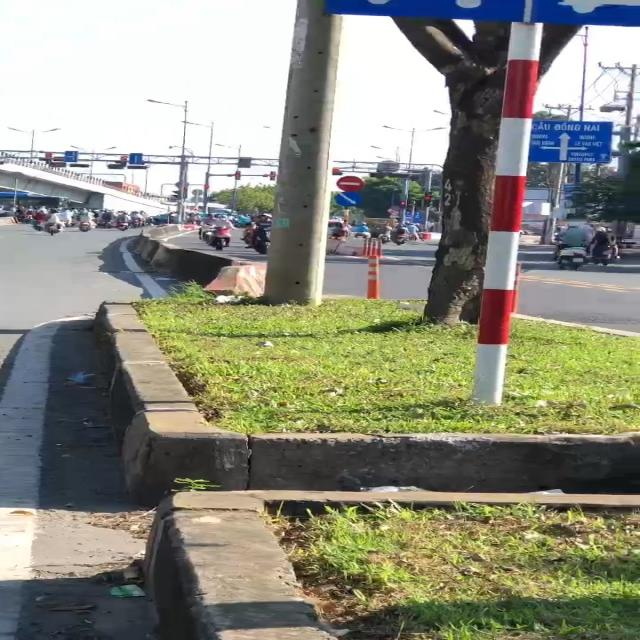Bien bao cam di nguoc chieu: (334, 175, 368, 192)
Bien bao huong phai di vong chuong ngai vat: (332, 191, 368, 209)
